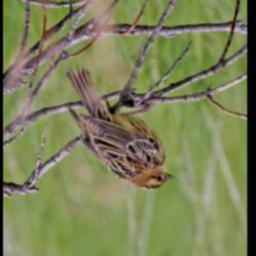Sparrow: (64, 64, 176, 191)
